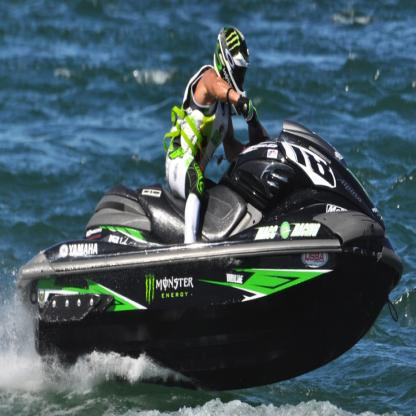Helmet: (215, 27, 251, 93)
